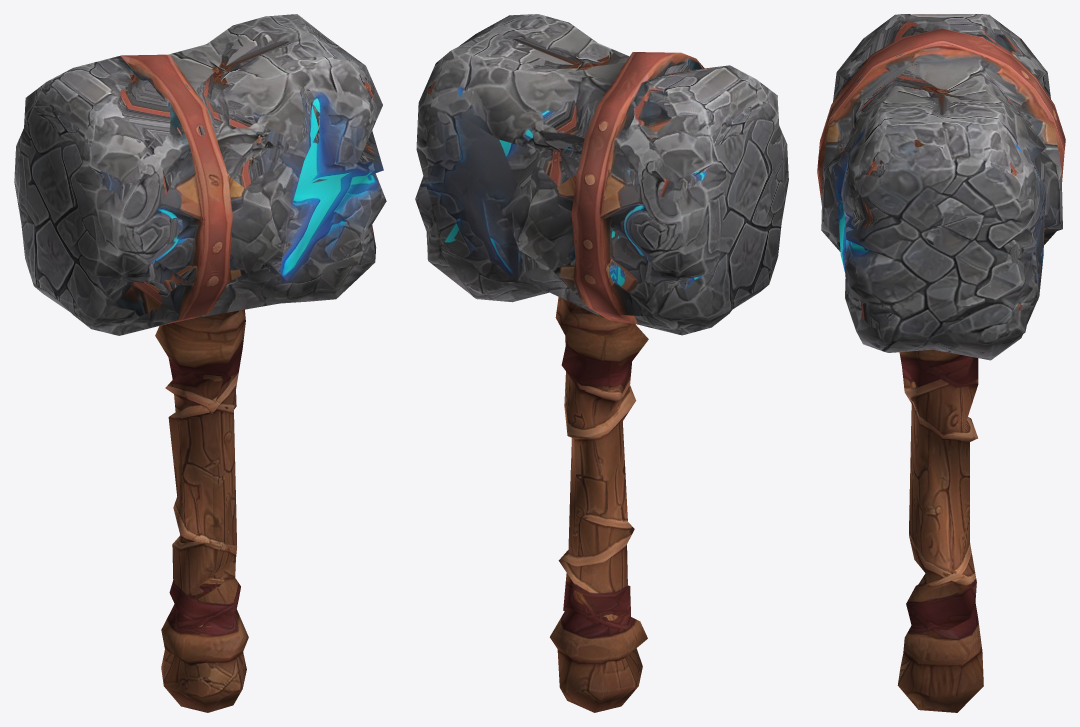
The model's file is stormmace_raw.glb.
The picture shows the model from 3 angles, left to right: view 1: azimuth 30°, elevation 25°; view 2: azimuth 150°, elevation 25°; view 3: azimuth 270°, elevation 25°; orthographic projection. The views are drawn at different scales.
Visible parts, largest first — view 1: tripo_node_e645785c-7e51-4b2e-87c3-acbf88e6bc16; view 2: tripo_node_e645785c-7e51-4b2e-87c3-acbf88e6bc16; view 3: tripo_node_e645785c-7e51-4b2e-87c3-acbf88e6bc16.
Part boxes in pixels (x1,y1,x2,y2): tripo_node_e645785c-7e51-4b2e-87c3-acbf88e6bc16: [14, 14, 386, 712]; tripo_node_e645785c-7e51-4b2e-87c3-acbf88e6bc16: [415, 14, 788, 712]; tripo_node_e645785c-7e51-4b2e-87c3-acbf88e6bc16: [817, 14, 1065, 712].
Size of the model in its own units: 0.4716 by 1 by 0.3503.
Materials: 1 (1 with a texture image).
